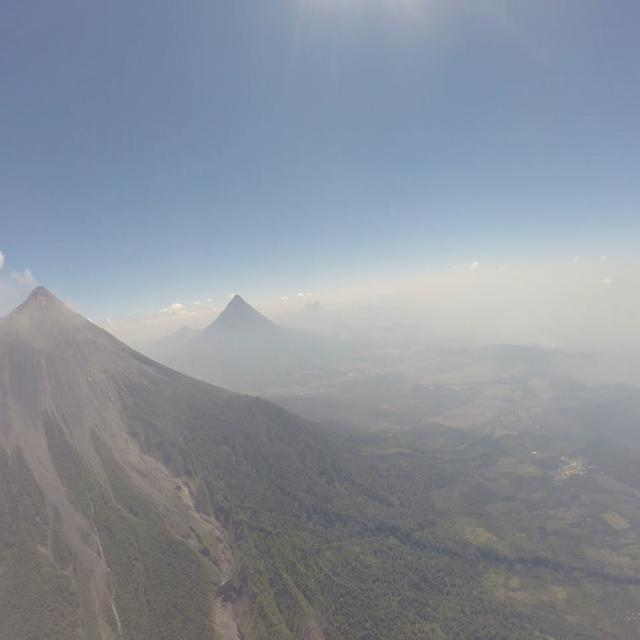Summit: (16, 284, 61, 314)
